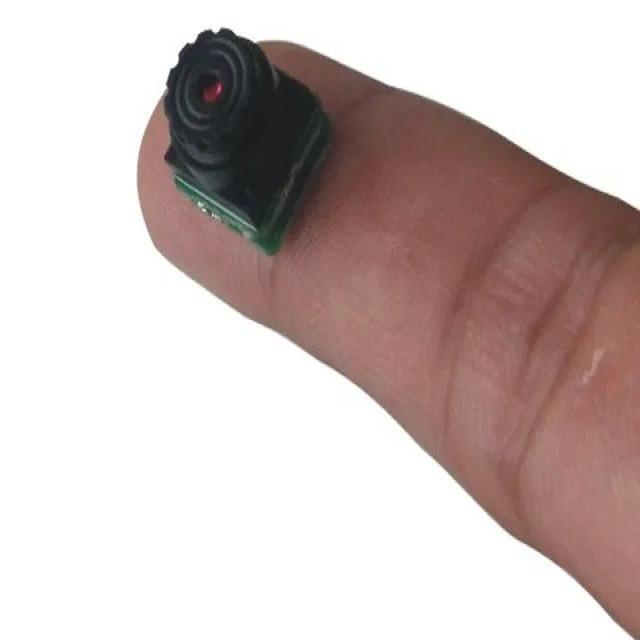hidden camera: (177, 45, 239, 128)
